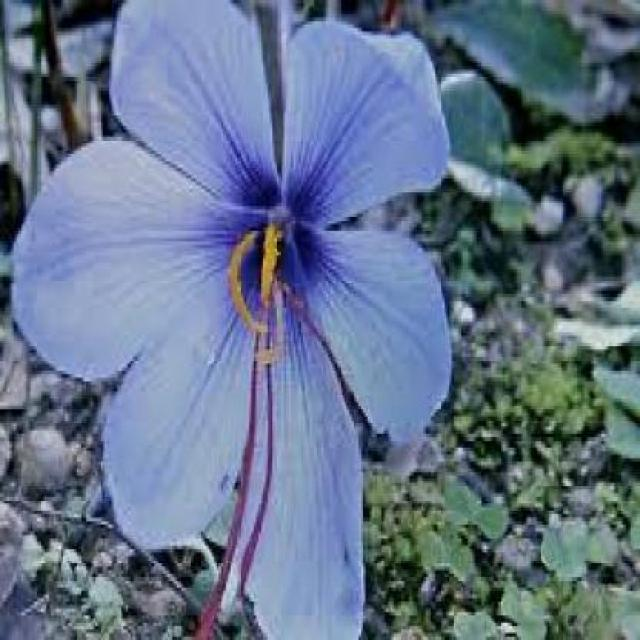Flower: (12, 0, 451, 640)
stigma: (199, 346, 262, 636), (236, 309, 284, 604)
